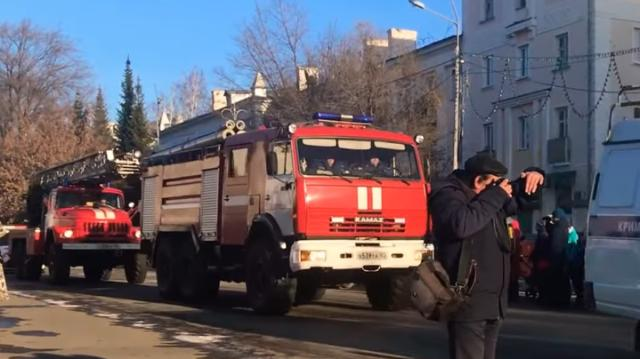fire fighting vehicle: (141, 114, 429, 317), (5, 149, 138, 283)
